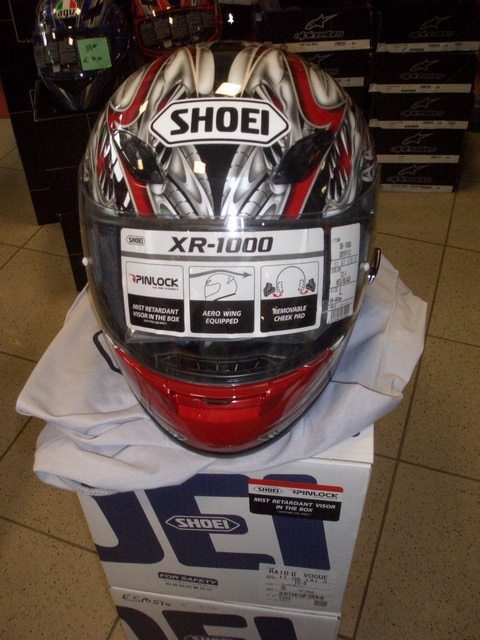helmet: (77, 54, 369, 465)
